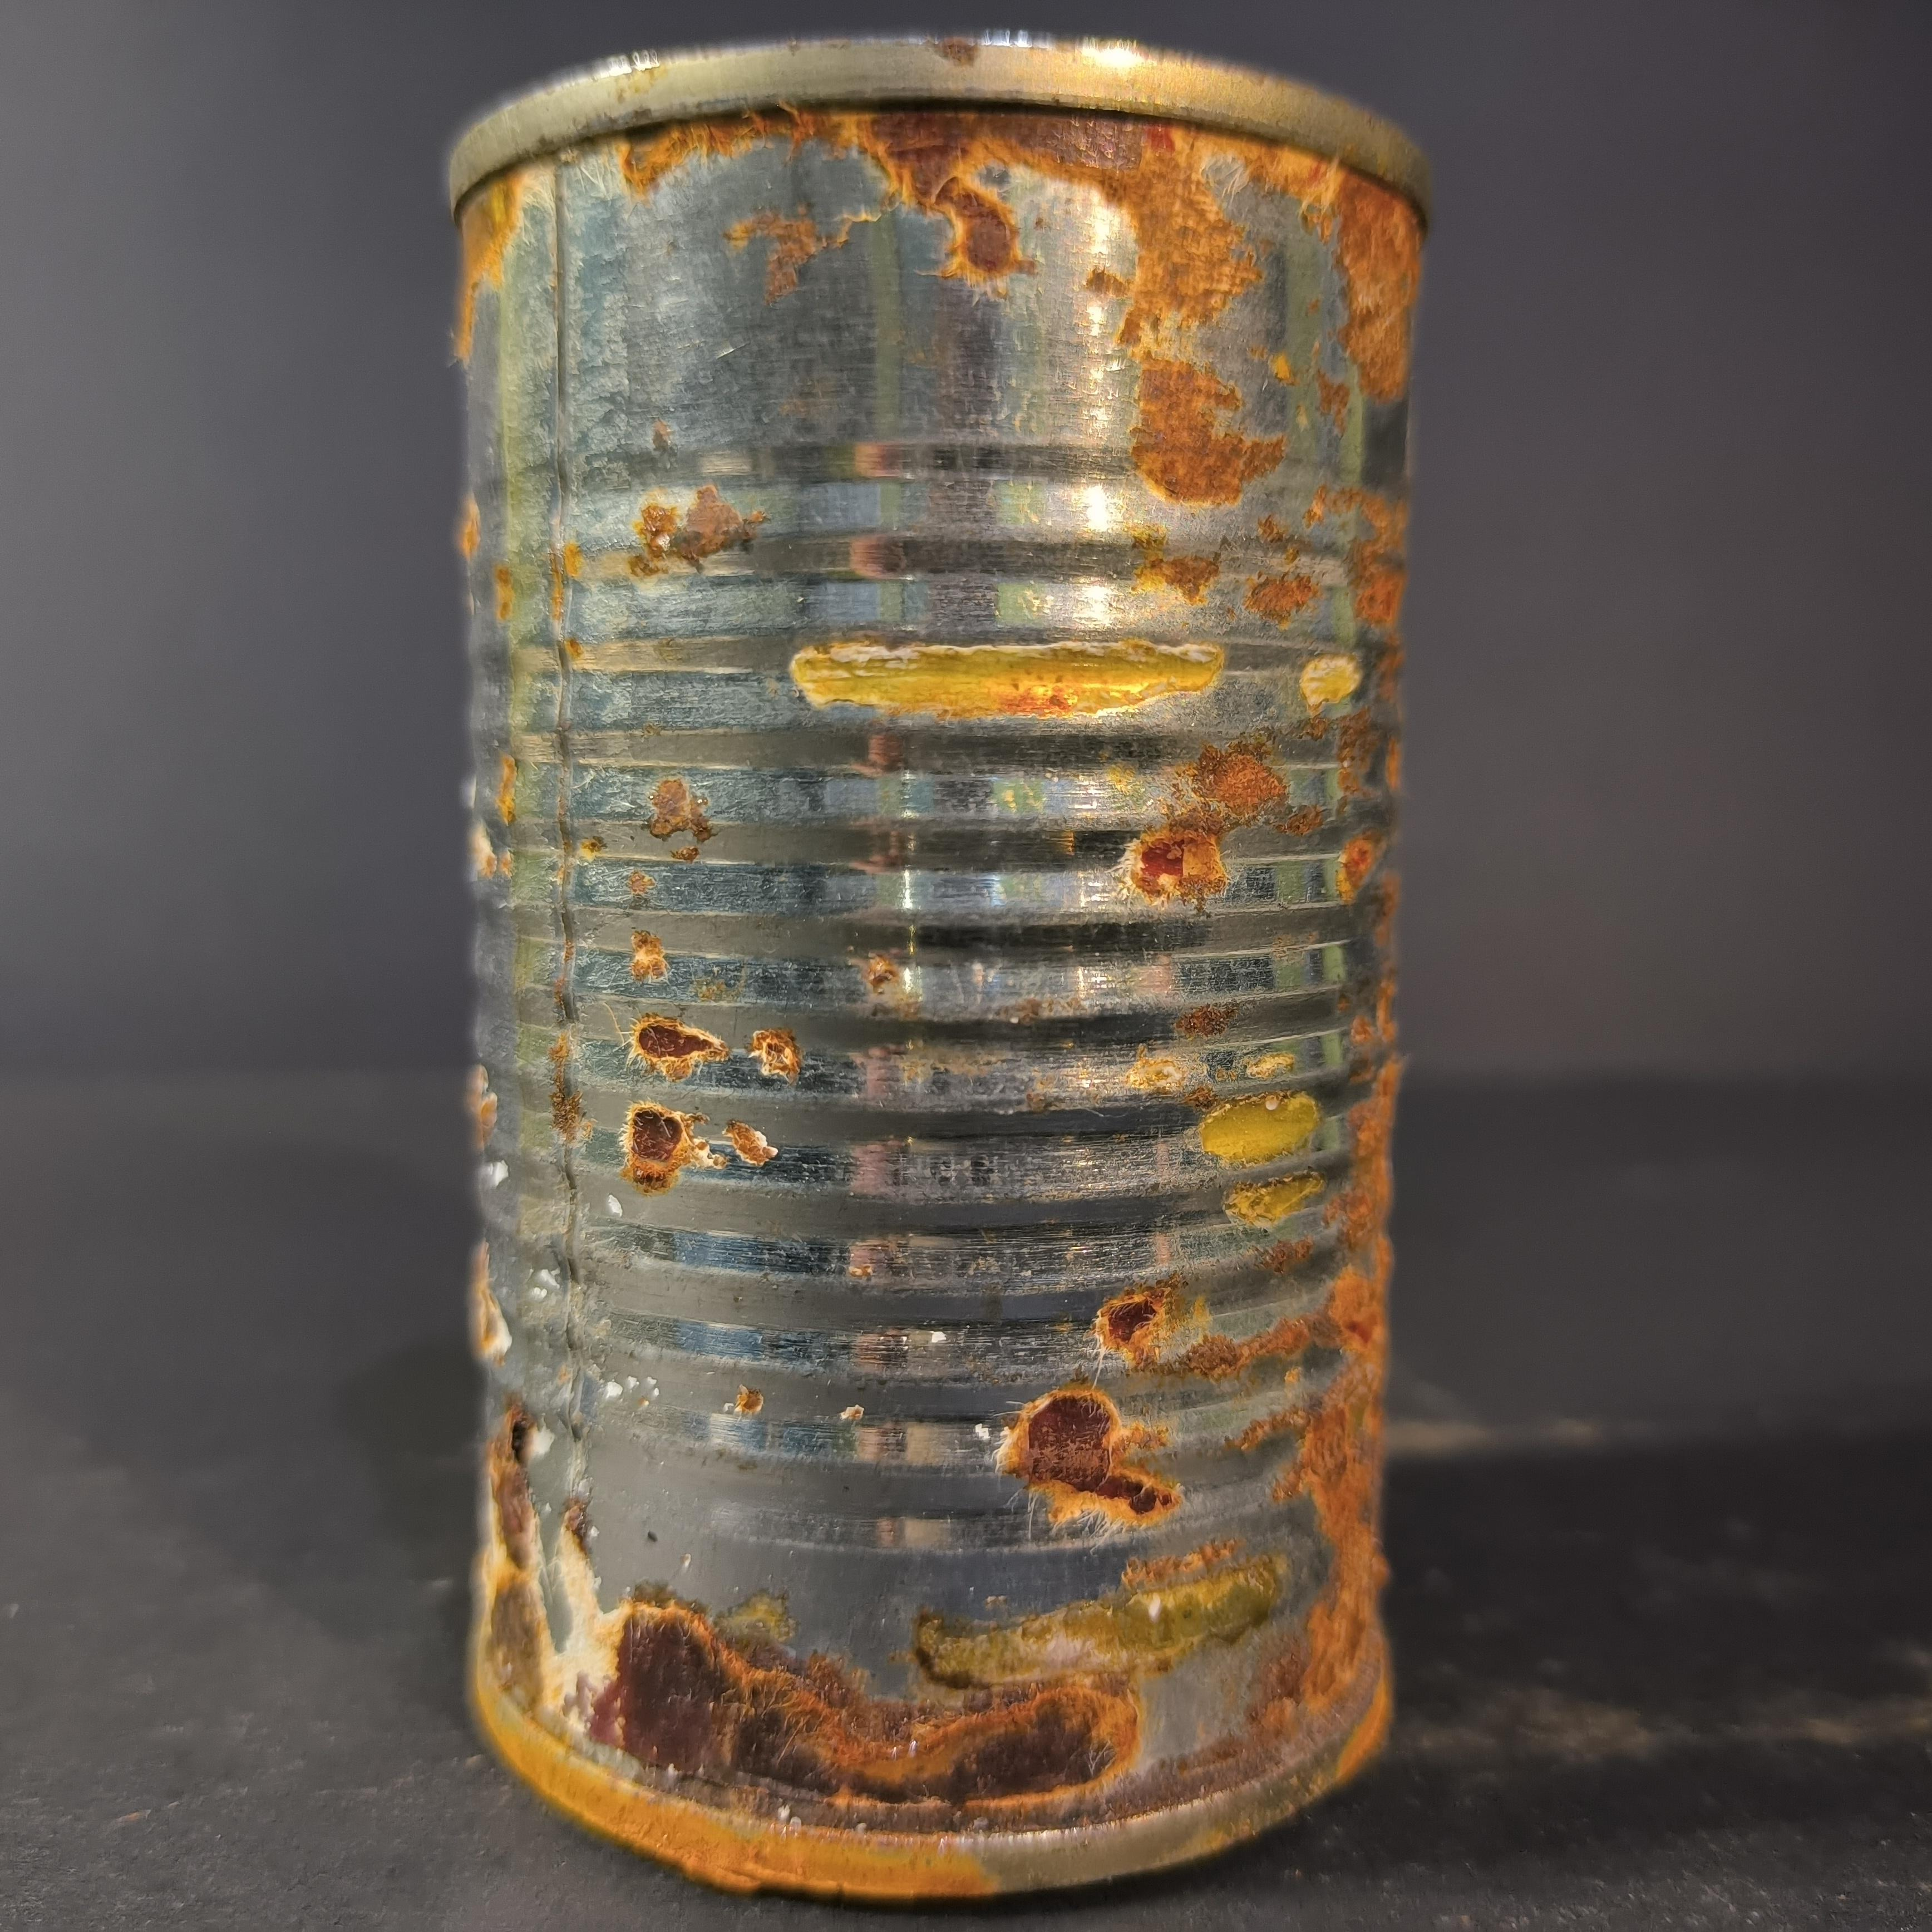Rusted: (412, 19, 1453, 1918)
